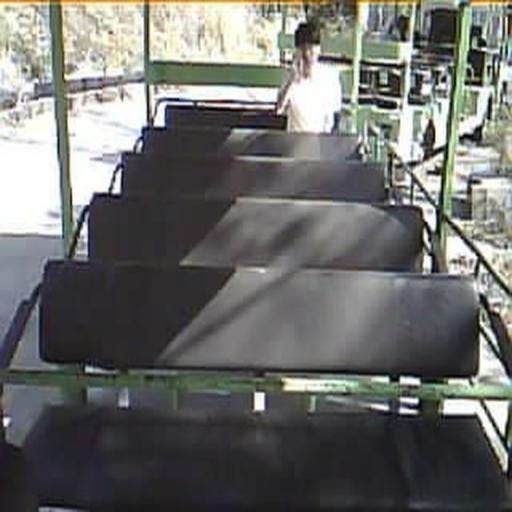persona: (274, 19, 344, 136)
